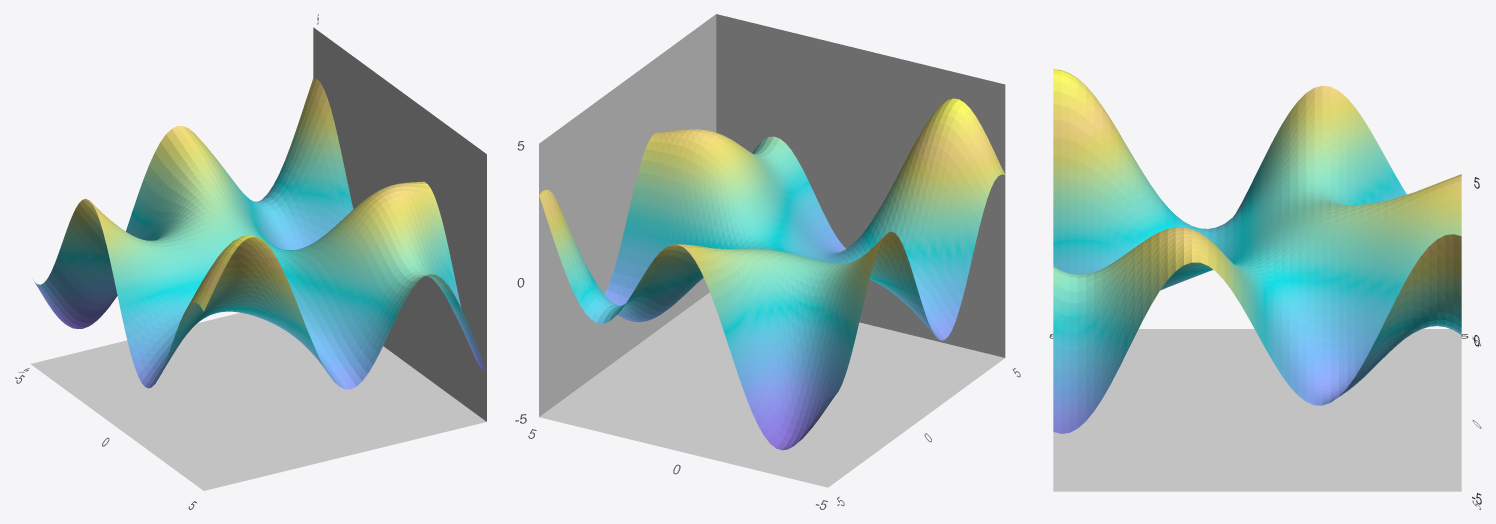
The model's file is modelFile.gltf.
The picture shows the model from 3 angles, left to right: view 1: azimuth 30°, elevation 25°; view 2: azimuth 150°, elevation 25°; view 3: azimuth 270°, elevation 25°; orthographic projection. The views are drawn at different scales.
Size of the model in its own units: 10.4 by 9.14 by 10.59.
